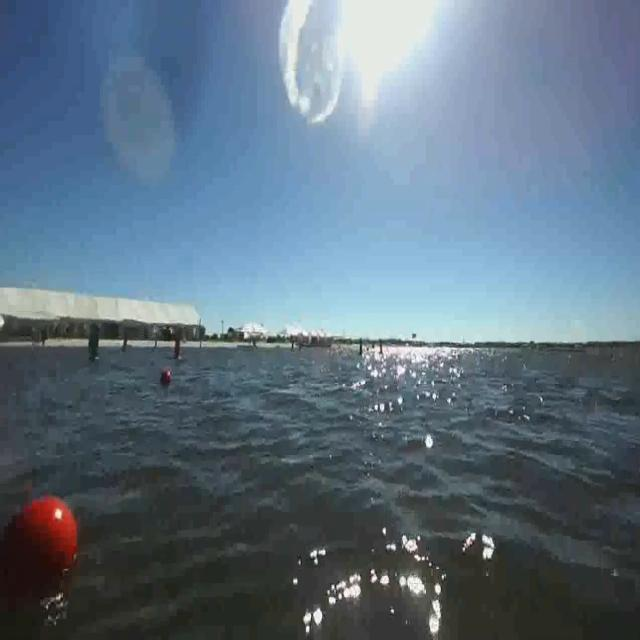green-column-buoy: (88, 324, 104, 364)
red-buoy: (4, 498, 75, 600), (159, 366, 171, 385)
red-column-buoy: (172, 332, 182, 361)
